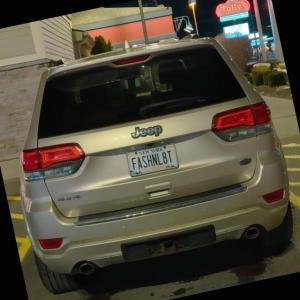Plate: (124, 141, 179, 177)
